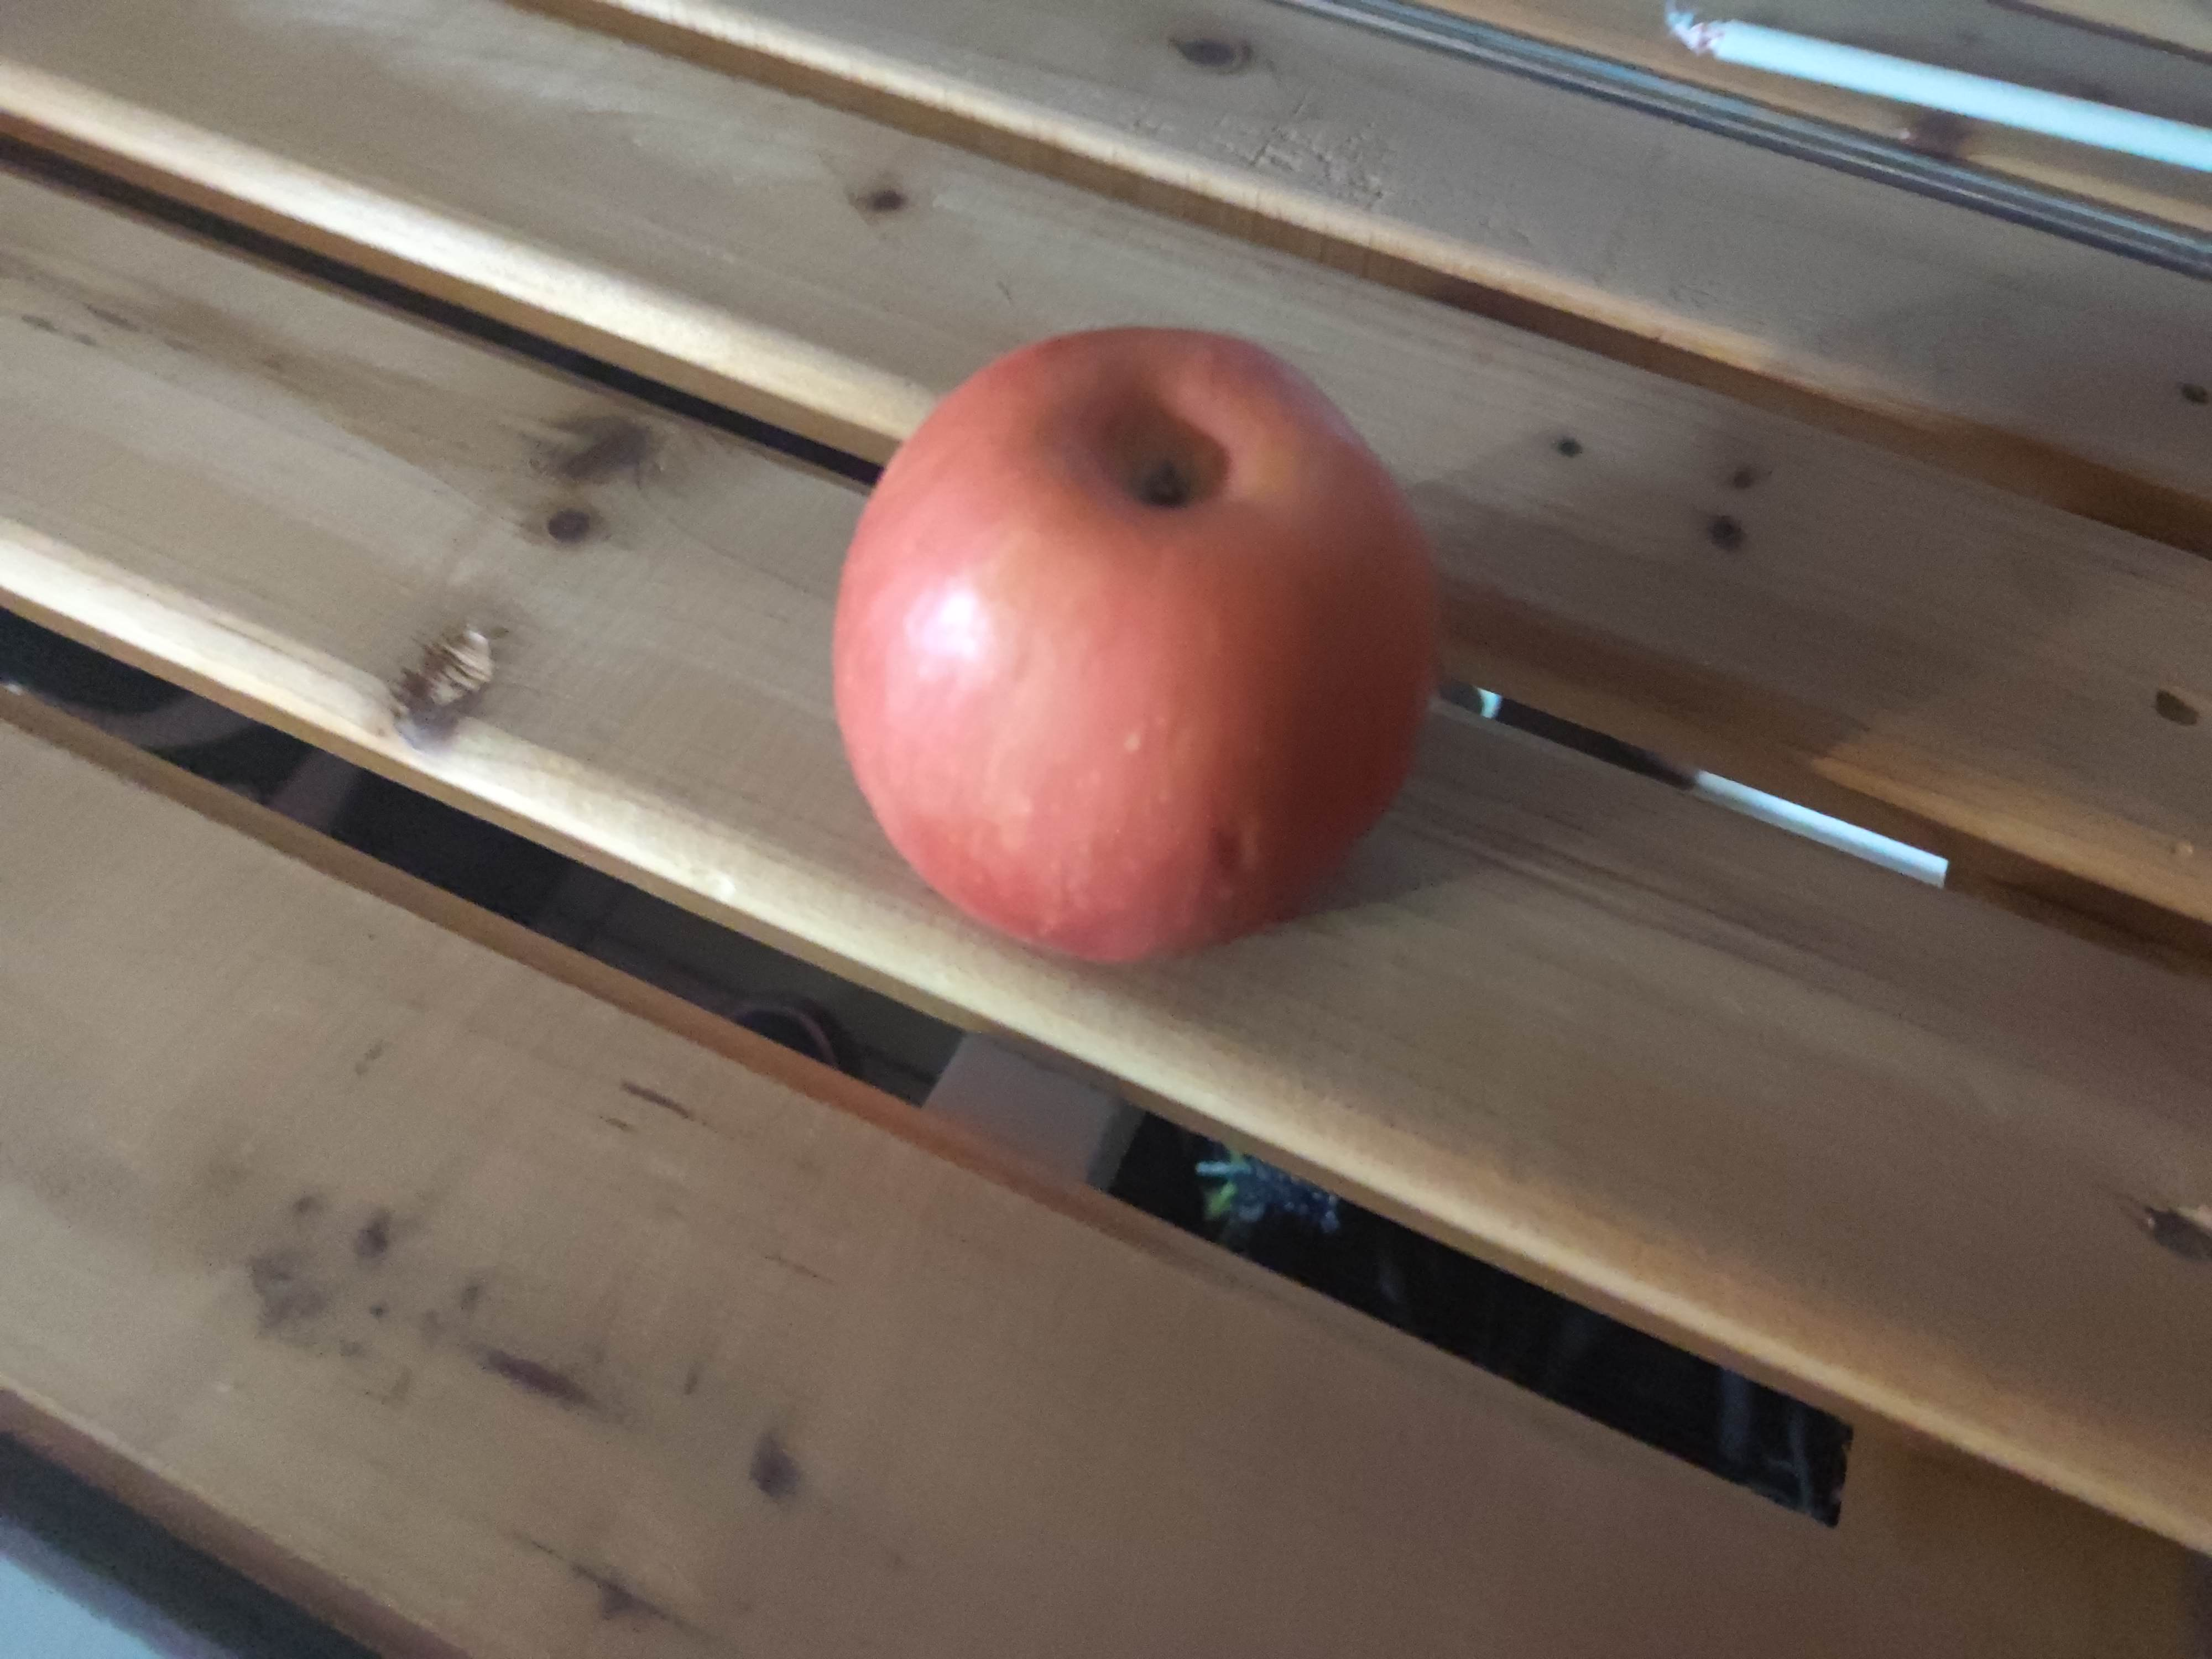apple: (829, 328, 1442, 967)
